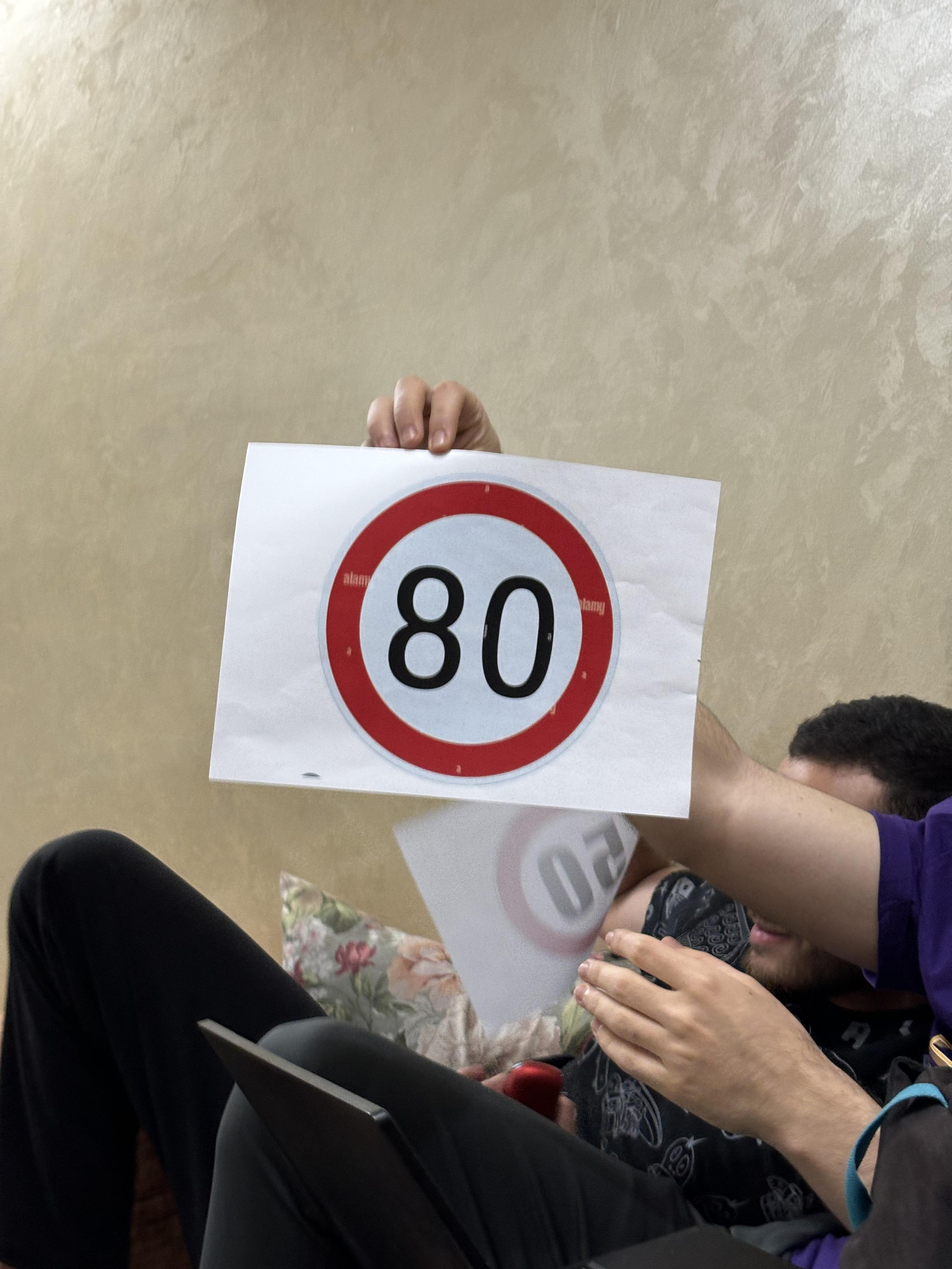80-Speed: (322, 470, 621, 795)
